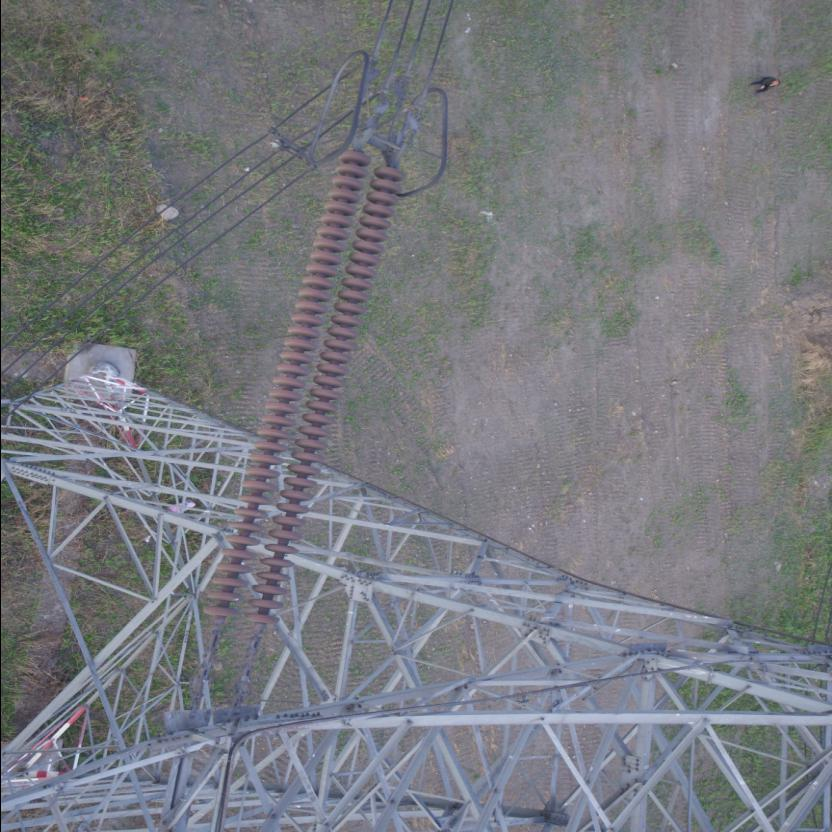insulator: (200, 143, 408, 674)
